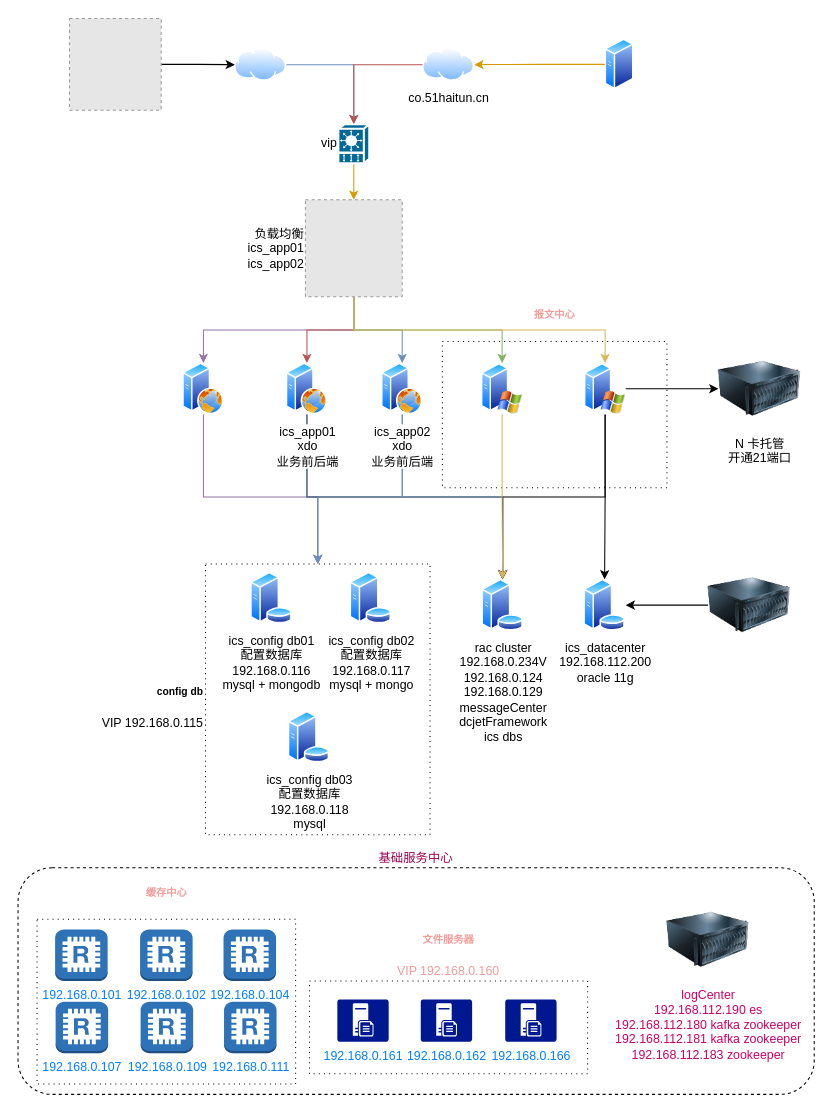
The diagram is 832 pixels wide and 1112 high, and some of its shapes have lost their labels. Grey dashed boxes stand in for pictures. The shapes that lost their labels are listed below. From the top down, each one's centre as x and y in pixels, then its label:
(x=260, y=64): cloud.51haitun.cn
(x=619, y=64): 产地证服务器 X2
(x=203, y=388): 伺服服务器 ics_app_s
(x=501, y=388): 报文中心服务 pcode server up api 192.168.108.?
(x=604, y=388): 报文中心服务 pcode server up api 192.168.108.131
(x=749, y=604): 192.168.112.171 oracle 爬网job + api
